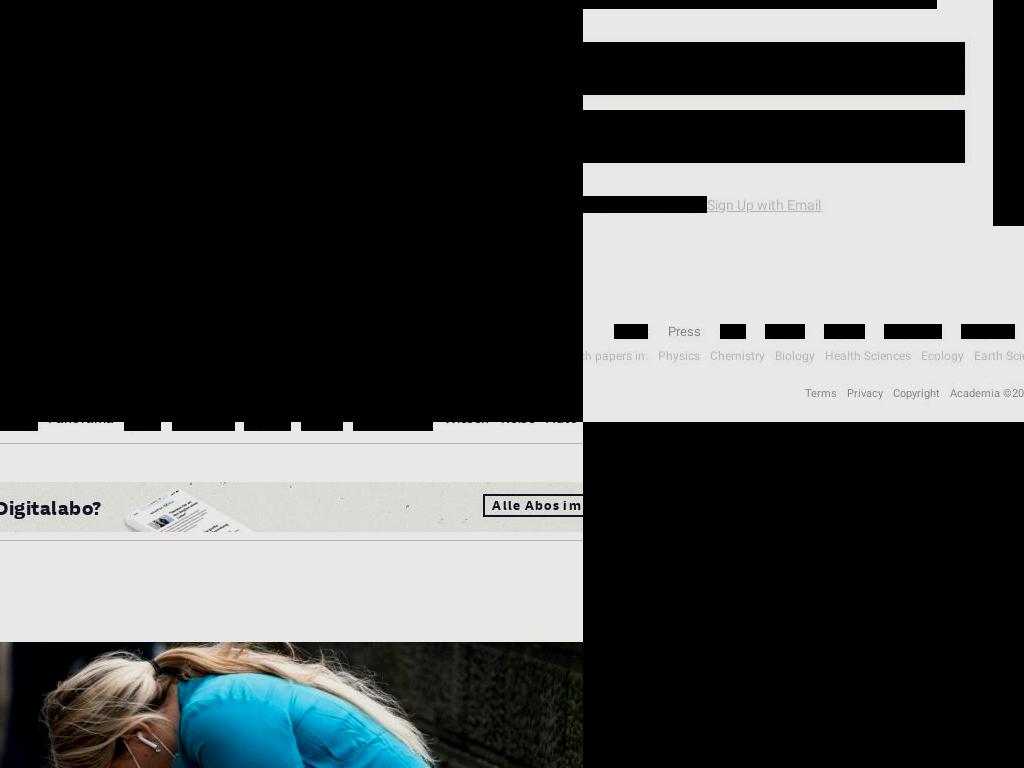button: (0, 566, 354, 768), (0, 482, 583, 532), (583, 42, 965, 95), (583, 110, 965, 163), (924, 437, 1024, 478), (353, 422, 433, 431), (47, 422, 114, 431), (172, 422, 235, 431), (244, 422, 291, 431), (443, 422, 490, 431), (301, 422, 343, 431), (0, 422, 38, 431), (124, 422, 161, 431), (500, 422, 535, 431), (546, 422, 579, 431)
heading: (0, 0, 583, 29), (0, 34, 301, 90), (584, 694, 1024, 728), (0, 587, 354, 626)
iframe: (40, 631, 457, 768)
image: (583, 467, 1024, 666), (583, 666, 1024, 768), (0, 642, 354, 768), (0, 482, 583, 532)
link: (30, 133, 148, 159), (707, 196, 822, 213), (171, 133, 221, 159), (825, 349, 911, 363), (884, 324, 942, 339), (961, 324, 1015, 339), (710, 349, 765, 363), (974, 349, 1024, 363), (824, 324, 865, 339), (893, 387, 940, 400), (921, 349, 964, 363), (765, 324, 805, 339), (658, 349, 700, 363), (775, 349, 815, 363), (614, 324, 648, 339), (667, 324, 701, 339), (847, 387, 883, 400), (805, 387, 837, 400), (720, 324, 746, 339), (270, 99, 276, 112)
text: (0, 31, 524, 422), (0, 456, 583, 472), (584, 730, 958, 752), (940, 437, 1024, 478), (0, 496, 102, 520), (483, 494, 583, 517), (664, 129, 806, 145), (164, 98, 270, 119), (583, 196, 708, 213), (21, 96, 98, 122), (673, 61, 797, 77), (945, 384, 1024, 404), (583, 346, 653, 366), (947, 523, 1024, 538), (123, 96, 165, 122), (987, 486, 1024, 501), (97, 98, 123, 119), (0, 98, 22, 119)
